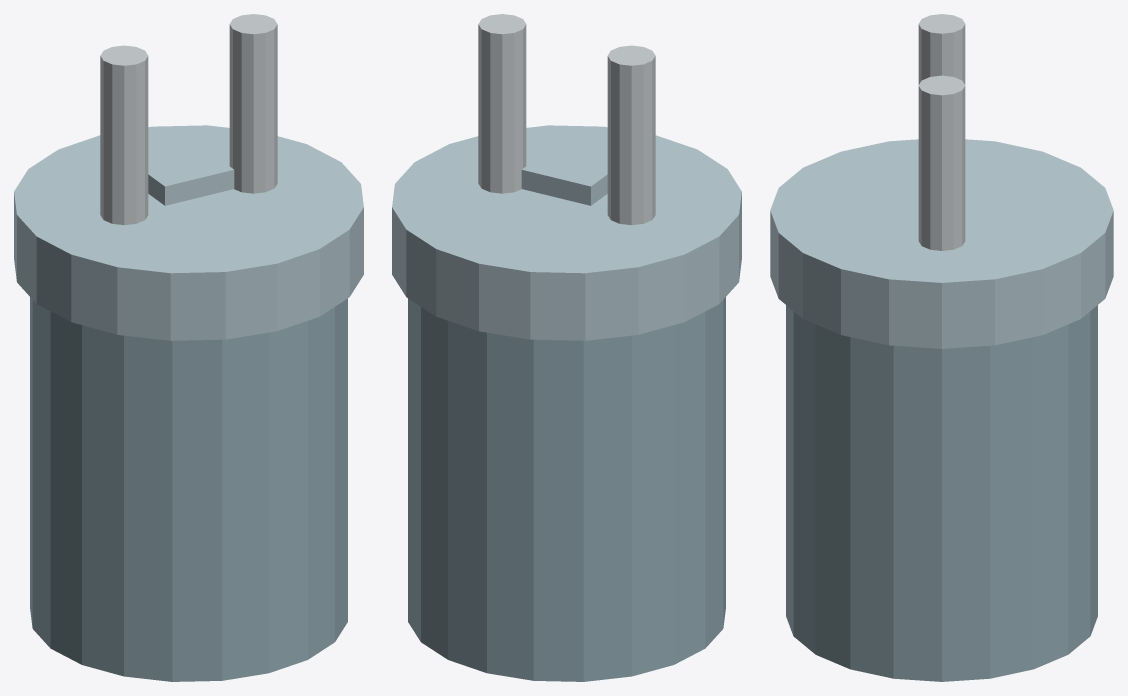
The model's file is filter-canister.glb.
3 views of the same model, side by side, from view 1: azimuth 30°, elevation 25°; view 2: azimuth 150°, elevation 25°; view 3: azimuth 270°, elevation 25° (orthographic). The views are drawn at different scales.
Visible parts, largest first — view 1: fc_body, fc_cap, fc_pipe_l, fc_pipe_r, fc_valve; view 2: fc_body, fc_cap, fc_pipe_l, fc_pipe_r, fc_valve; view 3: fc_body, fc_cap, fc_pipe_r, fc_pipe_l.
Part boxes in pixels (<box>): fc_body: <box>30,297,347,681</box>; fc_cap: <box>14,125,363,340</box>; fc_pipe_l: <box>100,45,148,225</box>; fc_pipe_r: <box>229,14,277,193</box>; fc_valve: <box>148,154,234,205</box>; fc_body: <box>408,297,725,681</box>; fc_cap: <box>392,125,741,340</box>; fc_pipe_l: <box>607,45,655,225</box>; fc_pipe_r: <box>478,14,526,193</box>; fc_valve: <box>521,154,607,205</box>; fc_body: <box>786,305,1097,681</box>; fc_cap: <box>770,139,1113,348</box>; fc_pipe_r: <box>918,75,965,250</box>; fc_pipe_l: <box>918,14,965,84</box>.
Size of the model in its own units: 0.5546 by 1 by 0.5546.
